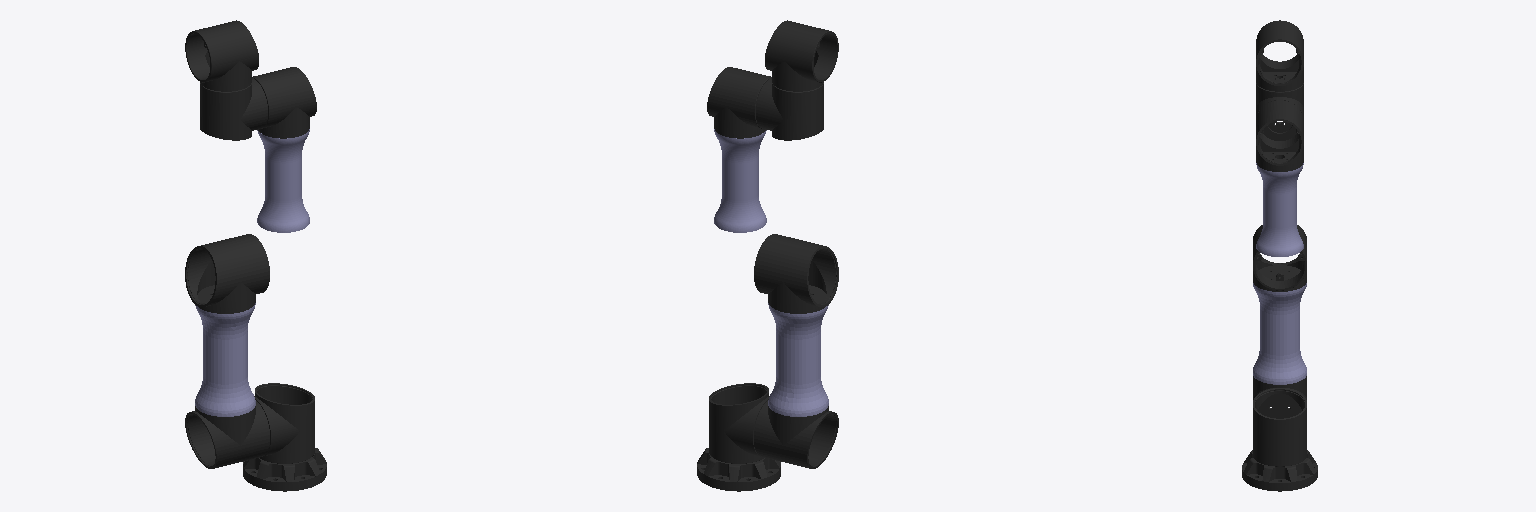
URDF robot description (Arm_EB15):
<?xml version="1.0" ?>
<robot name="Arm_EB15" version="1.0">
  <joint name="joint1" type="revolute">
    <limit lower="-3.14000" upper="3.14000" effort="0.48000" velocity="0.66000"/>
    <origin rpy="0.00000 0.00000 0.00000" xyz="0.00000 0.00000 0.00000"/>
    <parent link="base_link"/>
    <child link="link01"/>
    <axis xyz="0.00000 0.00000 1.00000"/>
  </joint>
  <joint name="joint2" type="revolute">
    <limit lower="-3.14000" upper="3.14000" effort="0.48000" velocity="0.66000"/>
    <origin rpy="0.00000 0.00000 0.00000" xyz="0.00000 0.00000 0.00000"/>
    <parent link="link01"/>
    <child link="link02"/>
    <axis xyz="0.00000 0.00000 1.00000"/>
  </joint>
  <joint name="joint3" type="revolute">
    <limit lower="-3.14000" upper="3.14000" effort="0.48000" velocity="0.66000"/>
    <origin rpy="-0.00000 0.00000 0.00000" xyz="0.00000 0.00000 0.00000"/>
    <parent link="link02"/>
    <child link="link03"/>
    <axis xyz="0.00000 0.00000 1.00000"/>
  </joint>
  <joint name="joint4" type="revolute">
    <limit lower="-3.14000" upper="3.14000" effort="0.48000" velocity="0.66000"/>
    <origin rpy="0.00000 0.00000 0.00000" xyz="0.00000 -0.00000 0.00000"/>
    <parent link="link03"/>
    <child link="link04"/>
    <axis xyz="0.00000 0.00000 1.00000"/>
  </joint>
  <joint name="joint5" type="revolute">
    <limit lower="-3.14000" upper="3.14000" effort="0.48000" velocity="0.66000"/>
    <origin rpy="0.00000 0.00000 0.00000" xyz="0.00000 0.00000 -0.00000"/>
    <parent link="link04"/>
    <child link="link05"/>
    <axis xyz="0.00000 0.00000 1.00000"/>
  </joint>
  <link name="base_link">
    <collision name="Arm_EB-052_collision">
      <origin rpy="0.00000 0.00000 0.00000" xyz="-0.00017 -0.00100 0.01493"/>
      <geometry>
        <box size="0.10500 0.10497 0.03000"/>
      </geometry>
    </collision>
    <inertial>
      <inertia ixx="0.00020" ixy="-0.00000" ixz="-0.00000" iyy="0.00020" iyz="-0.00000" izz="0.00035"/>
      <origin rpy="0.00000 0.00000 0.00000" xyz="-0.00017 -0.00100 0.01497"/>
      <mass value="0.30100"/>
    </inertial>
    <visual name="Arm_EB-052">
      <origin rpy="0.00000 0.00000 0.00000" xyz="0.00000 0.00000 0.00000"/>
      <material name="mat_0"/>
      <geometry>
        <mesh filename="package://my_package/meshes/dae/Arm_EB-052.dae" scale="1.00000 1.00000 1.00000"/>
      </geometry>
    </visual>
  </link>
  <link name="link01">
    <collision name="Arm_EB-108_collision">
      <origin rpy="0.00000 0.00000 0.00000" xyz="-0.00211 -0.00100 0.07343"/>
      <geometry>
        <box size="0.08000 0.07600 0.08500"/>
      </geometry>
    </collision>
    <inertial>
      <inertia ixx="0.00026" ixy="0.00000" ixz="0.00002" iyy="0.00027" iyz="-0.00000" izz="0.00027"/>
      <origin rpy="0.00000 0.00000 0.00000" xyz="-0.00649 -0.00100 0.07078"/>
      <mass value="0.30100"/>
    </inertial>
    <visual name="Arm_EB-108">
      <origin rpy="0.00000 0.00000 0.00000" xyz="0.00000 -0.00090 0.07360"/>
      <material name="mat_0"/>
      <geometry>
        <mesh filename="package://my_package/meshes/dae/Arm_EB-108.dae" scale="1.00000 1.00000 1.00000"/>
      </geometry>
    </visual>
  </link>
  <link name="link02">
    <collision name="Arm_EB-018_collision">
      <origin rpy="-0.00000 0.00000 0.00000" xyz="-0.08611 -0.00100 0.18693"/>
      <geometry>
        <box size="0.07600 0.07600 0.14200"/>
      </geometry>
    </collision>
    <collision name="Arm_EB-112_collision">
      <origin rpy="-0.00000 0.00000 -0.00000" xyz="-0.08561 -0.00100 0.07593"/>
      <geometry>
        <box size="0.08500 0.07600 0.08000"/>
      </geometry>
    </collision>
    <collision name="Arm_EB-146_collision">
      <origin rpy="-0.00000 0.00000 0.00000" xyz="-0.08561 -0.00100 0.29793"/>
      <geometry>
        <box size="0.08500 0.07600 0.08000"/>
      </geometry>
    </collision>
    <inertial>
      <inertia ixx="0.00117" ixy="0.00000" ixz="0.00003" iyy="0.00113" iyz="-0.00000" izz="0.00061"/>
      <origin rpy="0.00000 0.00000 0.00000" xyz="-0.08372 -0.00100 0.18827"/>
      <mass value="0.90300"/>
    </inertial>
    <visual name="Arm_EB-018">
      <origin rpy="-0.00000 0.00000 0.00000" xyz="-0.08611 -0.00101 0.18954"/>
      <material name="mat_1"/>
      <geometry>
        <mesh filename="package://my_package/meshes/dae/Arm_EB-018.dae" scale="1.00000 1.00000 1.00000"/>
      </geometry>
    </visual>
    <visual name="Arm_EB-112">
      <origin rpy="-0.00000 0.00000 -0.00000" xyz="-0.08538 -0.00100 0.07360"/>
      <material name="mat_0"/>
      <geometry>
        <mesh filename="package://my_package/meshes/dae/Arm_EB-112.dae" scale="1.00000 1.00000 1.00000"/>
      </geometry>
    </visual>
    <visual name="Arm_EB-146">
      <origin rpy="-0.00000 0.00000 0.00000" xyz="-0.08538 -0.00100 0.29993"/>
      <material name="mat_0"/>
      <geometry>
        <mesh filename="package://my_package/meshes/dae/Arm_EB-146.dae" scale="1.00000 1.00000 1.00000"/>
      </geometry>
    </visual>
  </link>
  <link name="link03">
    <collision name="Arm_EB-086_collision">
      <origin rpy="0.00000 0.00000 0.00000" xyz="-0.00211 -0.00100 0.41293"/>
      <geometry>
        <box size="0.06598 0.06600 0.13000"/>
      </geometry>
    </collision>
    <collision name="Arm_EB-111_collision">
      <origin rpy="0.00000 0.00000 0.00000" xyz="-0.00505 -0.00100 0.51593"/>
      <geometry>
        <box size="0.07412 0.06600 0.07600"/>
      </geometry>
    </collision>
    <collision name="Arm_EB-15_collision">
      <origin rpy="0.00000 0.00000 0.00000" xyz="-0.00561 -0.00100 0.30493"/>
      <geometry>
        <box size="0.07300 0.07600 0.08600"/>
      </geometry>
    </collision>
    <inertial>
      <inertia ixx="0.00105" ixy="-0.00001" ixz="-0.00001" iyy="0.00109" iyz="0.00002" izz="0.00053"/>
      <origin rpy="0.00000 0.00000 0.00000" xyz="-0.00622 -0.00101 0.40862"/>
      <mass value="0.90300"/>
    </inertial>
    <visual name="Arm_EB-086">
      <origin rpy="0.00000 0.00000 0.00000" xyz="-0.00211 -0.00100 0.41297"/>
      <material name="mat_1"/>
      <geometry>
        <mesh filename="package://my_package/meshes/dae/Arm_EB-086.dae" scale="1.00000 1.00000 1.00000"/>
      </geometry>
    </visual>
    <visual name="Arm_EB-111">
      <origin rpy="0.00000 0.00000 0.00000" xyz="0.00000 -0.00000 0.52092"/>
      <material name="mat_0"/>
      <geometry>
        <mesh filename="package://my_package/meshes/dae/Arm_EB-111.dae" scale="1.00000 1.00000 1.00000"/>
      </geometry>
    </visual>
    <visual name="Arm_EB-15">
      <origin rpy="0.00000 0.00000 0.00000" xyz="0.00524 0.00231 0.29029"/>
      <material name="mat_0"/>
      <geometry>
        <mesh filename="package://my_package/meshes/dae/Arm_EB-15.dae" scale="1.00000 1.00000 1.00000"/>
      </geometry>
    </visual>
  </link>
  <link name="link04">
    <collision name="Arm_EB-156_collision">
      <origin rpy="0.00000 0.00000 0.00000" xyz="-0.08066 -0.00103 0.52387"/>
      <geometry>
        <box size="0.07500 0.06600 0.07412"/>
      </geometry>
    </collision>
    <inertial>
      <inertia ixx="0.00018" ixy="0.00000" ixz="0.00002" iyy="0.00021" iyz="-0.00000" izz="0.00022"/>
      <origin rpy="0.00000 0.00000 0.00000" xyz="-0.07128 -0.00101 0.52633"/>
      <mass value="0.30100"/>
    </inertial>
    <visual name="Arm_EB-156">
      <origin rpy="0.00000 0.00000 0.00000" xyz="-0.08513 -0.00103 0.52092"/>
      <material name="mat_0"/>
      <geometry>
        <mesh filename="package://my_package/meshes/dae/Arm_EB-156.dae" scale="1.00000 1.00000 1.00000"/>
      </geometry>
    </visual>
  </link>
  <link name="link05">
    <collision name="Arm_EB-147_collision">
      <origin rpy="-0.00000 0.00000 0.00000" xyz="-0.08810 -0.00100 0.59943"/>
      <geometry>
        <box size="0.07412 0.06600 0.07500"/>
      </geometry>
    </collision>
    <inertial>
      <inertia ixx="0.00022" ixy="-0.00000" ixz="0.00001" iyy="0.00023" iyz="-0.00000" izz="0.00021"/>
      <origin rpy="0.00000 0.00000 0.00000" xyz="-0.09056 -0.00101 0.59007"/>
      <mass value="0.30100"/>
    </inertial>
    <visual name="Arm_EB-147">
      <origin rpy="0.00000 0.00000 -0.00000" xyz="-0.08513 -0.00100 0.60393"/>
      <material name="mat_0"/>
      <geometry>
        <mesh filename="package://my_package/meshes/dae/Arm_EB-147.dae" scale="1.00000 1.00000 1.00000"/>
      </geometry>
    </visual>
  </link>
  <material name="mat_0">
    <color rgba="0.21569 0.21569 0.21569 1.00000"/>
  </material>
  <material name="mat_1">
    <color rgba="0.57647 0.57647 0.71373 1.00000"/>
  </material>
</robot>

--- Render facts (derived) ---
Views: 3 orthographic renders of the robot side by side, from view 1: azimuth 30°, elevation 25°; view 2: azimuth 150°, elevation 25°; view 3: azimuth 270°, elevation 25°.
Robot: Arm_EB15 — 6 links, 5 joints (5 revolute); root link base_link; default pose: every joint at zero.
Visible links, largest first — view 1: link02, link03, link05, link01, link04, base_link; view 2: link02, link03, link05, link01, link04, base_link; view 3: link02, link03, link01, link05, base_link, link04.
Link boxes in pixels (x1,y1,x2,y2): link02: (185, 234, 269, 468); link03: (252, 67, 316, 232); link05: (185, 20, 258, 91); link01: (254, 383, 314, 463); link04: (200, 78, 267, 140); base_link: (243, 448, 326, 491); link02: (754, 234, 838, 468); link03: (707, 67, 771, 232); link05: (765, 20, 838, 91); link01: (709, 383, 769, 463); link04: (756, 78, 823, 140); base_link: (697, 448, 780, 491); link02: (1253, 225, 1306, 399); link03: (1256, 100, 1303, 256); link01: (1253, 388, 1306, 466); link05: (1256, 20, 1303, 91); base_link: (1242, 450, 1317, 491); link04: (1256, 78, 1303, 140).
Bounding box of the posed robot: 0.1804 × 0.105 × 0.637 m (x, y, z).
9 mesh visuals loaded from 10 distinct referenced files (9 Collada DAE); not drawn: 1 (reference not matched to a file when rendering).